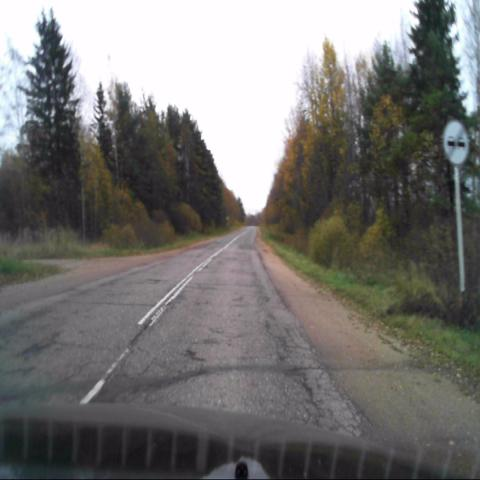3_21: (442, 119, 471, 169)
